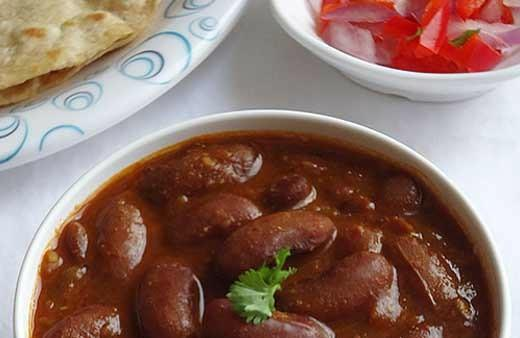RajmaCurry: (28, 131, 488, 338)
